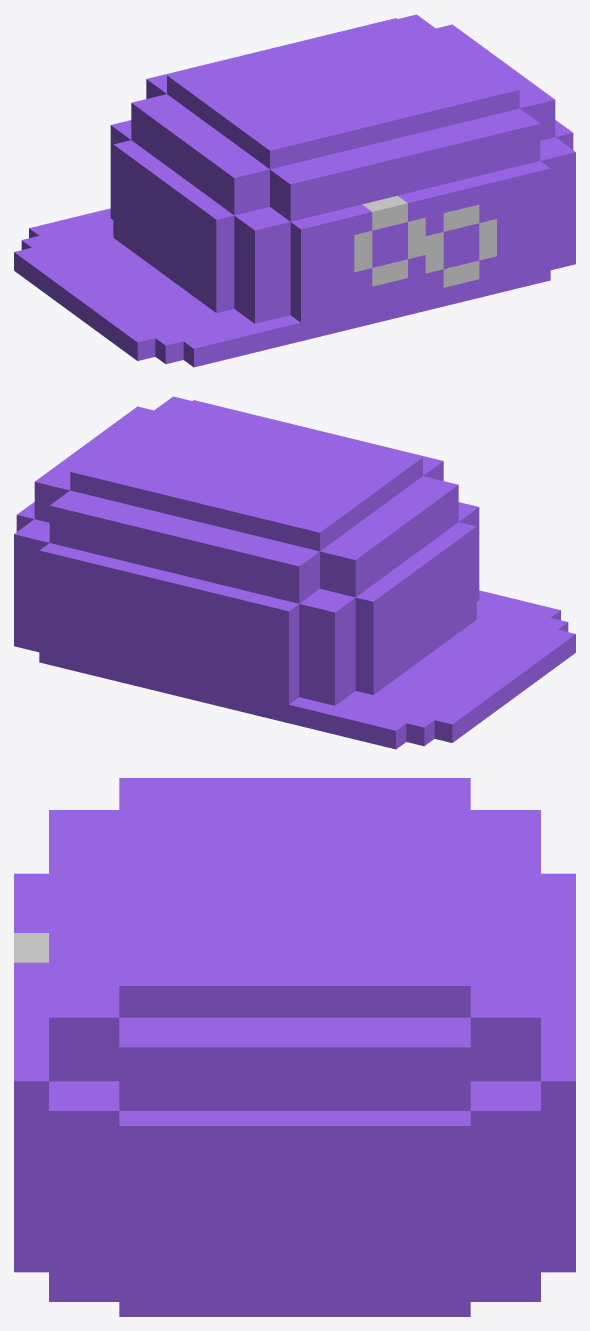
3 views of the same model, one above another, from view 1: azimuth 30°, elevation 25°; view 2: azimuth 150°, elevation 25°; view 3: azimuth 270°, elevation 25° (orthographic). The views are drawn at different scales.
Parts seen in each view (by area): view 1: 136; view 2: 136; view 3: 136.
Part boxes in pixels (x1=…): 136: x1=14, y1=14, x2=575, y2=367; 136: x1=14, y1=396, x2=575, y2=749; 136: x1=14, y1=778, x2=575, y2=1316.
Bounding box in the file's own units: 2.5 × 0.9 × 1.6.
1 material, 1 textured.
